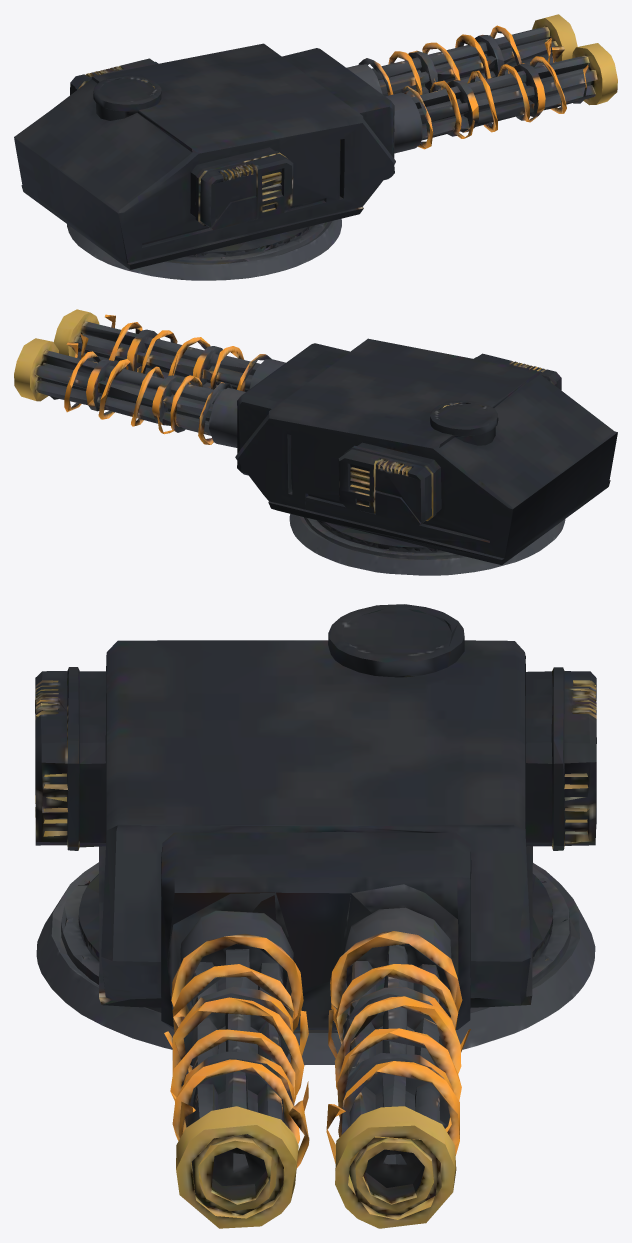
The model's file is weapon-twin-2-light.glb.
3 views of the same model, one above another, from view 1: azimuth 30°, elevation 25°; view 2: azimuth 150°, elevation 25°; view 3: azimuth 270°, elevation 25° (orthographic). The views are drawn at different scales.
Parts seen in each view (by area): view 1: weapon-twin-2-light; view 2: weapon-twin-2-light; view 3: weapon-twin-2-light.
Part boxes in pixels (left/top/right/bottom): weapon-twin-2-light: left=14, top=14, right=617, bottom=280; weapon-twin-2-light: left=14, top=309, right=617, bottom=575; weapon-twin-2-light: left=35, top=604, right=596, bottom=1228.
Size of the model in its own units: 2.7 by 0.659 by 1.27.
Materials: 1 (1 with a texture image).
